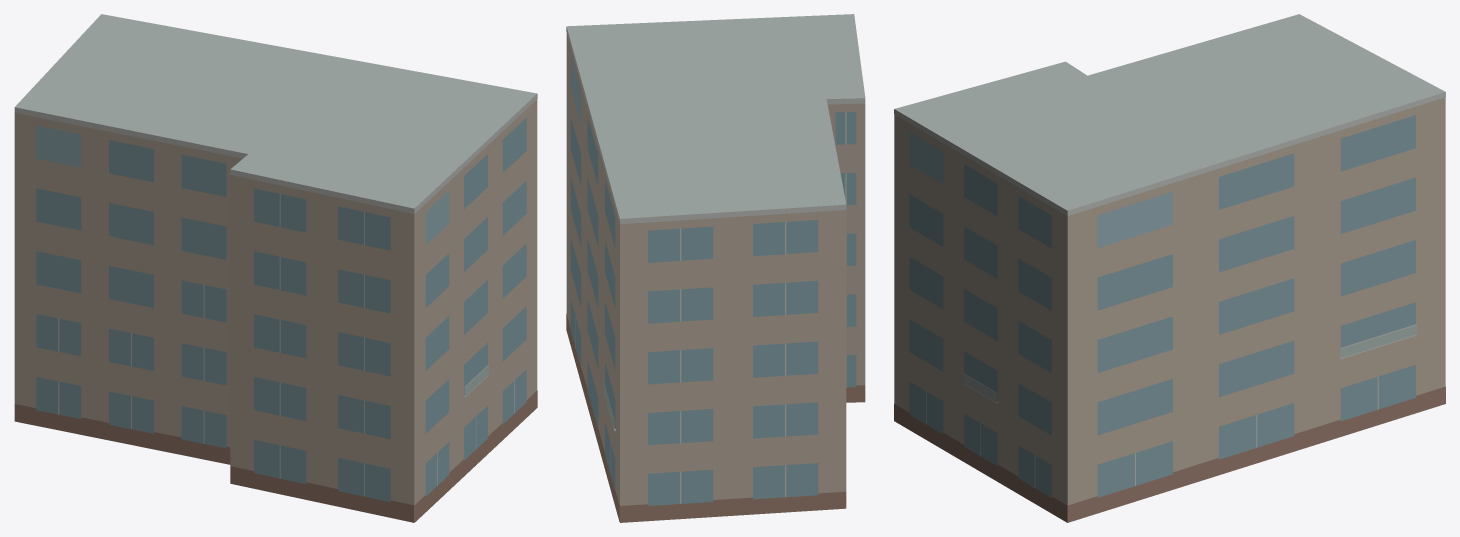
The model's file is survey-upis-33046683.glb.
The picture shows the model from 3 angles, left to right: view 1: azimuth 30°, elevation 25°; view 2: azimuth 150°, elevation 25°; view 3: azimuth 270°, elevation 25°; orthographic projection. The views are drawn at different scales.
Visible parts, largest first — view 1: survey-upis-33046683.tmp; view 2: survey-upis-33046683.tmp; view 3: survey-upis-33046683.tmp.
Boxes of the visible parts, box(x1,y1,x2,y2) form: survey-upis-33046683.tmp: box(14, 14, 537, 522); survey-upis-33046683.tmp: box(566, 14, 865, 522); survey-upis-33046683.tmp: box(894, 14, 1445, 522).
Bounding box in the file's own units: 18.94 × 14 × 22.43.
